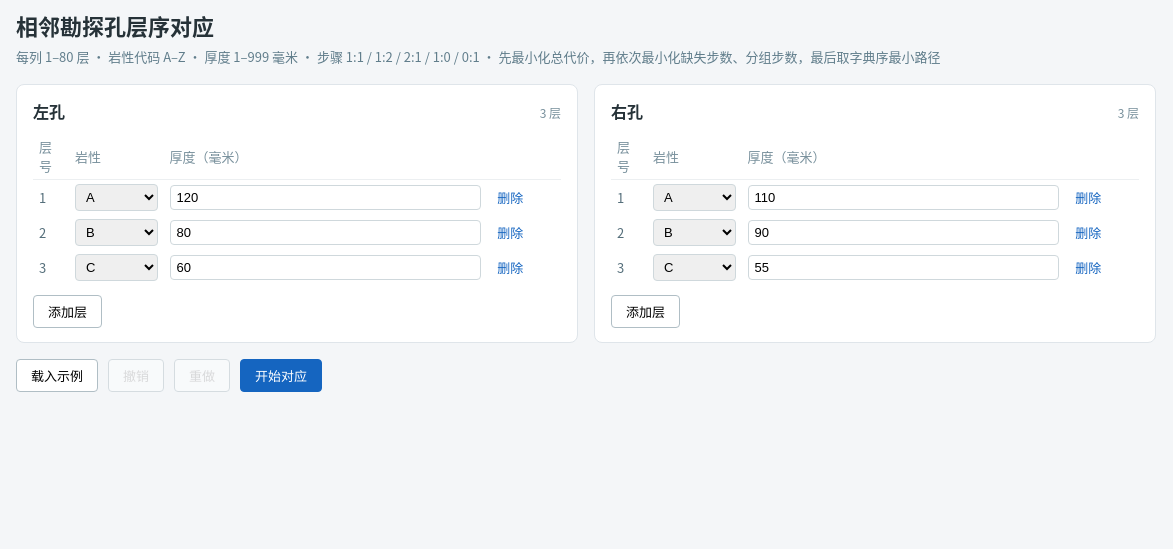
it: App › 回退后的任何新编辑都会截断重做分支
The image size is (1173, 549).
Click the button "载入示例" at (57, 376), box x1=16 y1=359 x2=98 y2=392
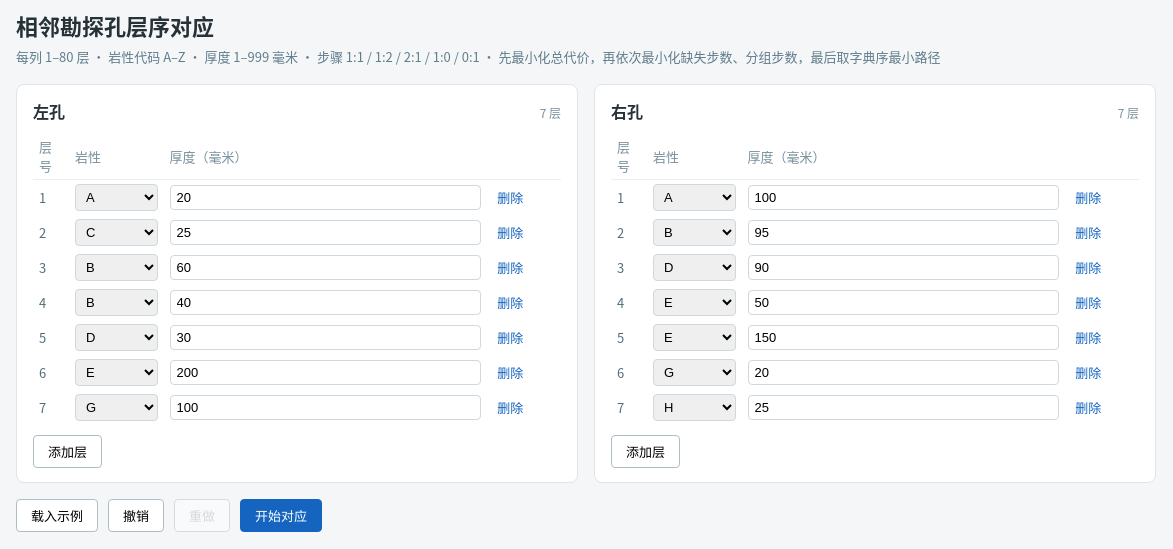
Replace the text in the field with test id "layer-thickness-left-0" with "55" at (325, 198), box x1=170 y1=185 x2=481 y2=210
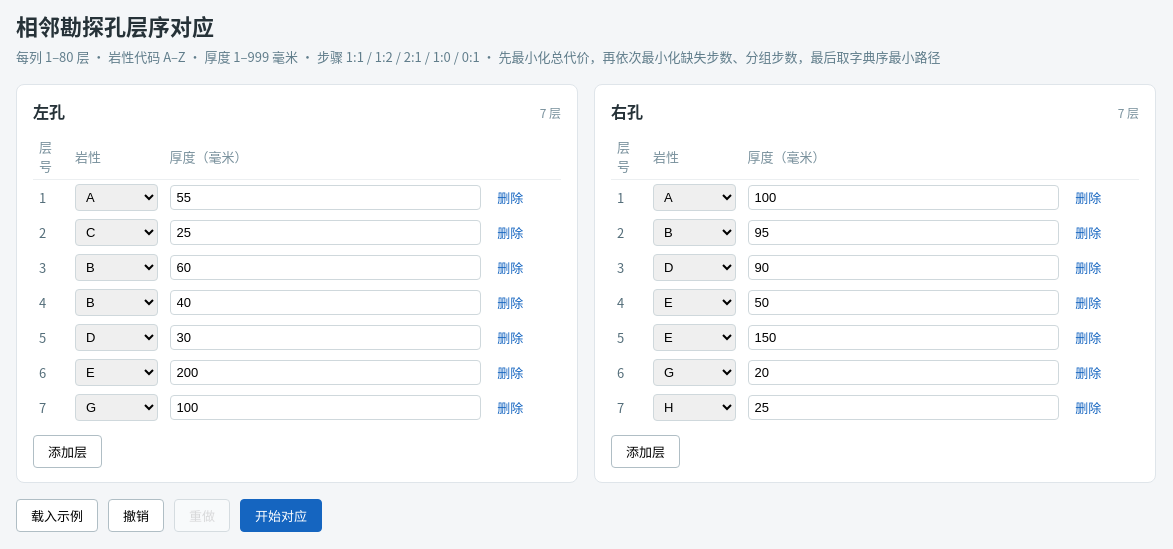
Click the button with test id "undo" at (136, 516), box x1=108 y1=499 x2=164 y2=532
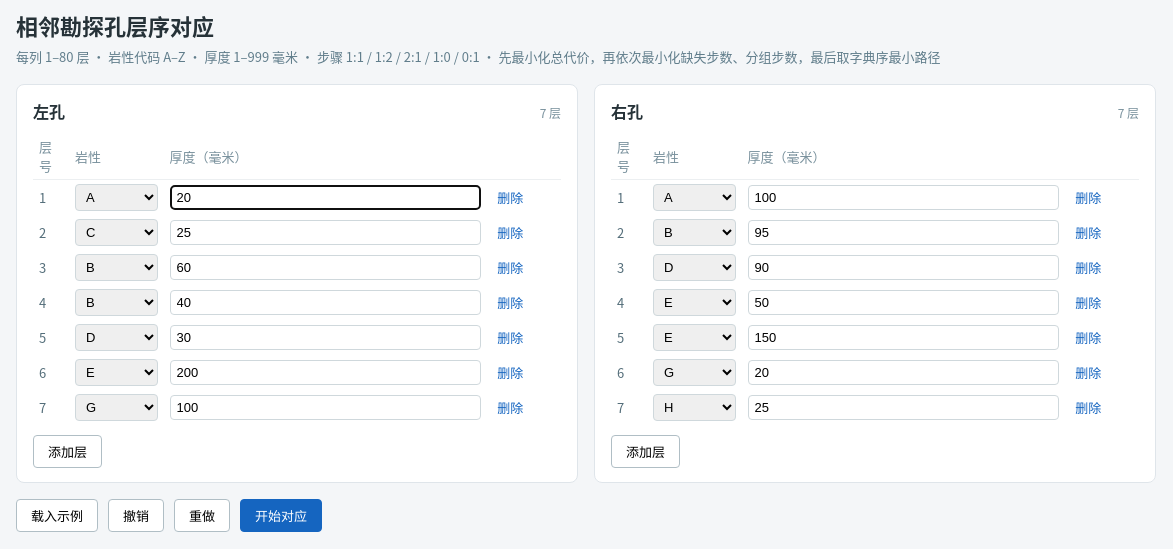
expect the field with test id "layer-thickness-left-0" holds "20": met, box x1=170 y1=185 x2=481 y2=210
expect the button with test id "redo" is enabled: met, box x1=174 y1=499 x2=230 y2=532
在另一列键入：重做分支被截断
Replace the text in the field with test id "layer-thickness-right-0" with "77" at (903, 198), box x1=748 y1=185 x2=1059 y2=210
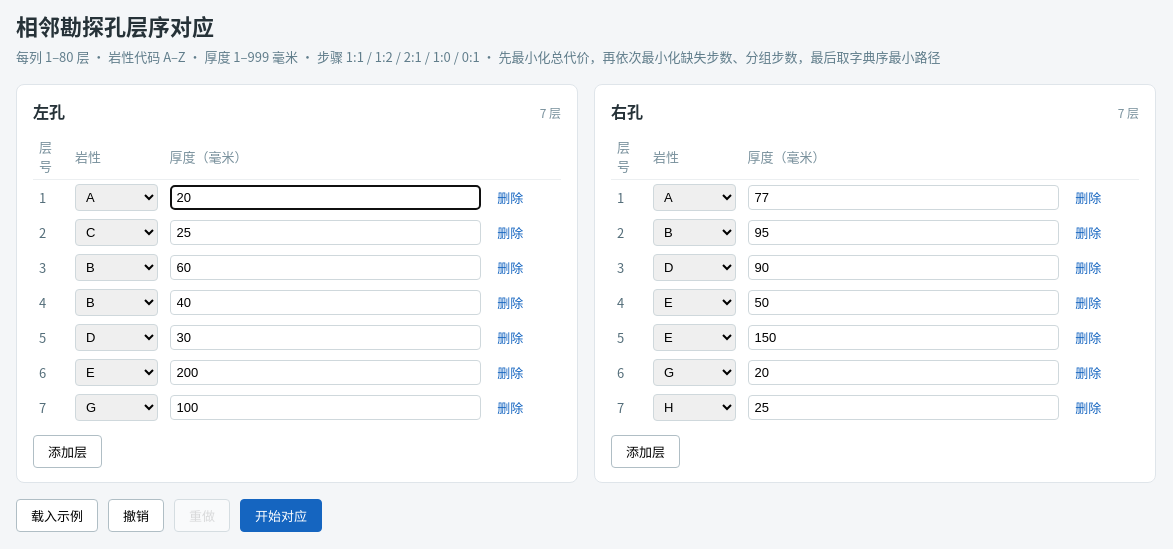
expect the button with test id "undo" is enabled: met
expect the button with test id "redo" is disabled: met, box x1=174 y1=499 x2=230 y2=532
撤销新编辑后回到的是回退点（示例），被截断的旧分支不会复活
Click the button with test id "undo" at (136, 516), box x1=108 y1=499 x2=164 y2=532
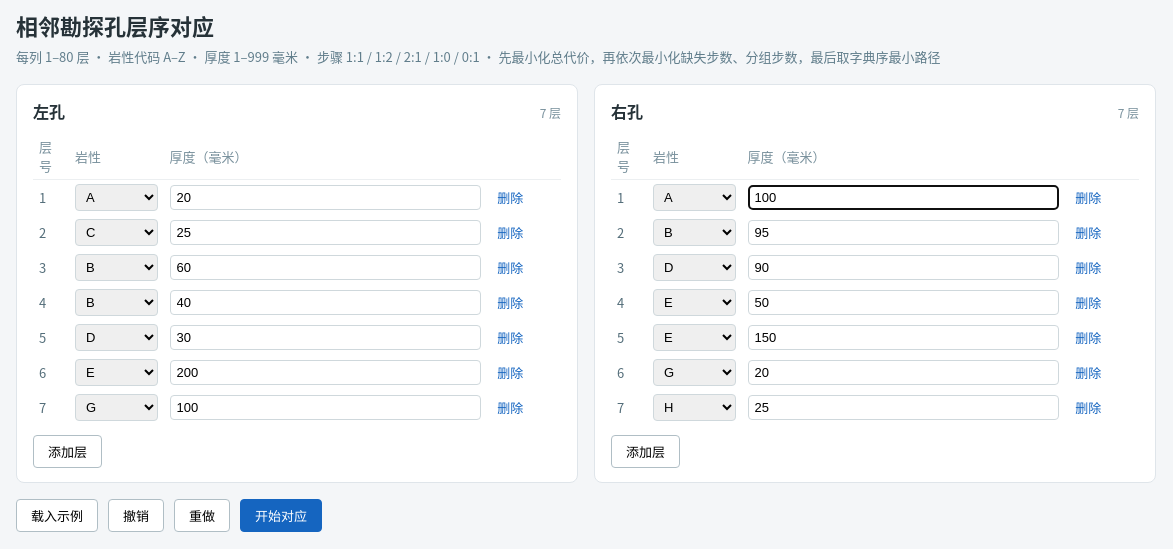
expect the field with test id "layer-thickness-left-0" holds "20": met, box x1=170 y1=185 x2=481 y2=210
expect the field with test id "layer-thickness-right-0" holds "100": met, box x1=748 y1=185 x2=1059 y2=210
expect the button with test id "redo" is enabled: met, box x1=174 y1=499 x2=230 y2=532
